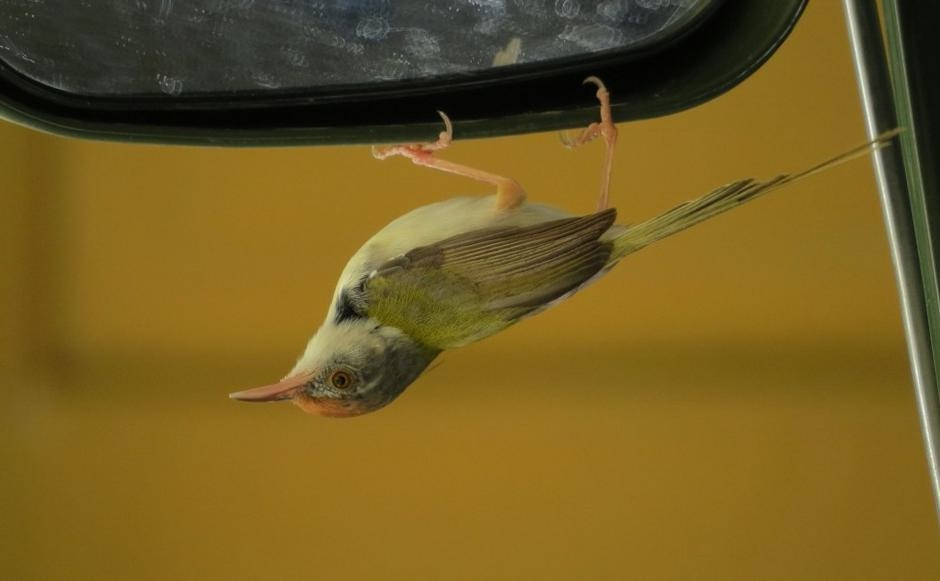tailorbird: (228, 69, 753, 435)
